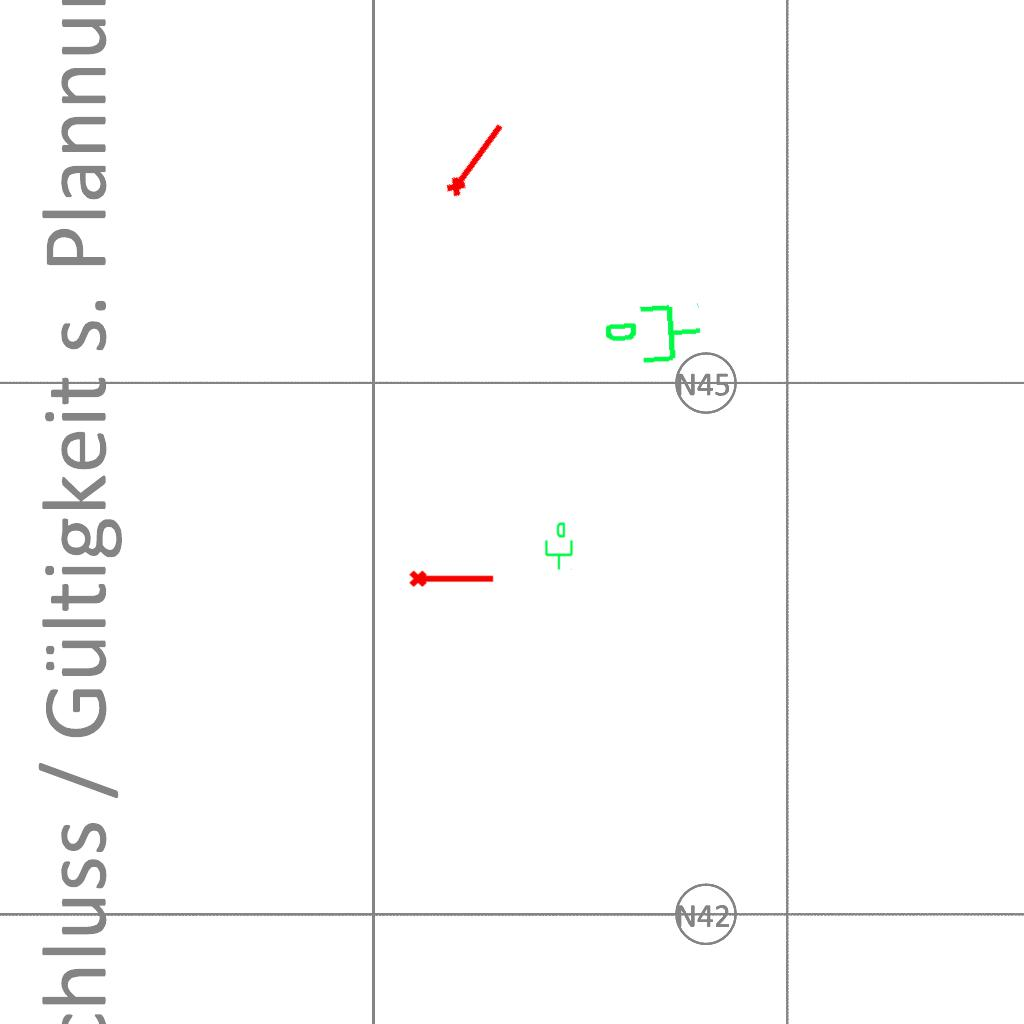ASR_Ansaugoeffnung: (439, 116, 511, 201), (408, 566, 496, 589)
Datenanschluss_einfach: (601, 298, 706, 374), (541, 521, 575, 571)
